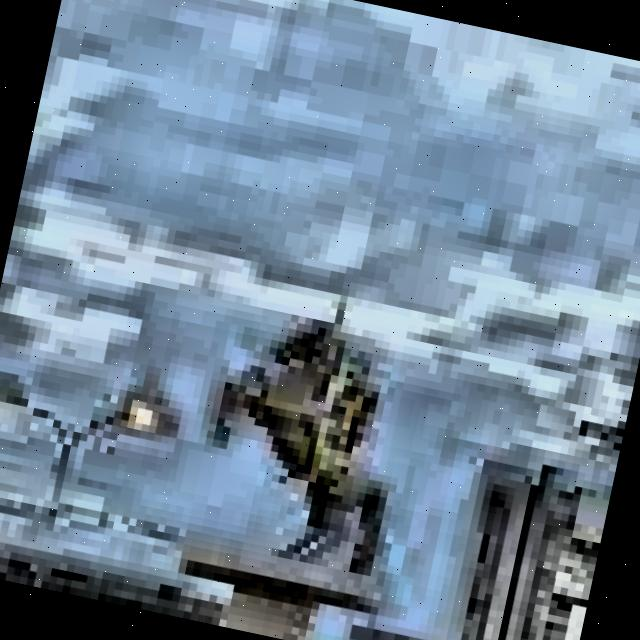alexander the great monument: (167, 272, 435, 640)
